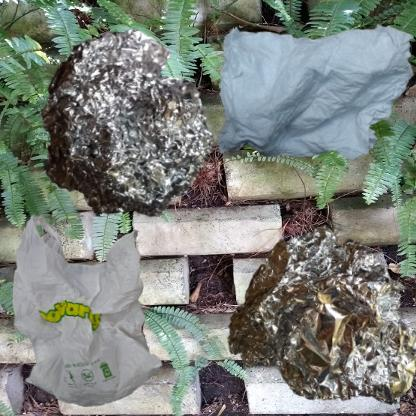aluminio: (10, 10, 245, 259), (213, 213, 416, 416)
bolsa: (10, 213, 166, 409)
papel: (213, 10, 416, 173)
